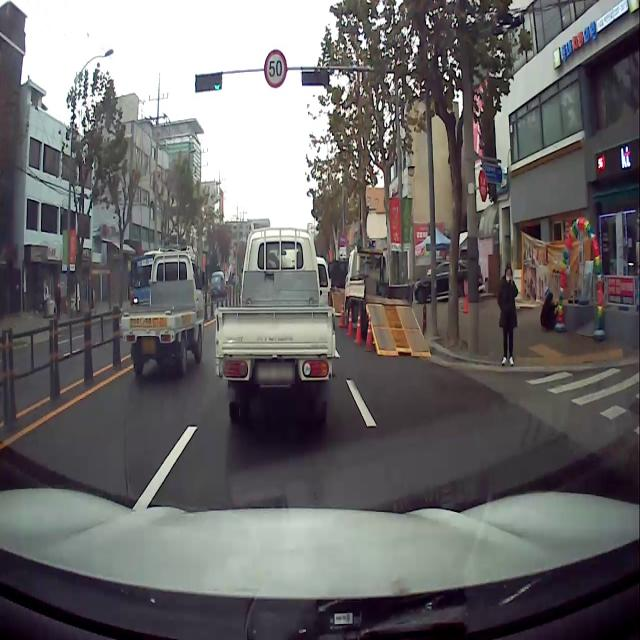Green Light: (213, 80, 221, 90)
